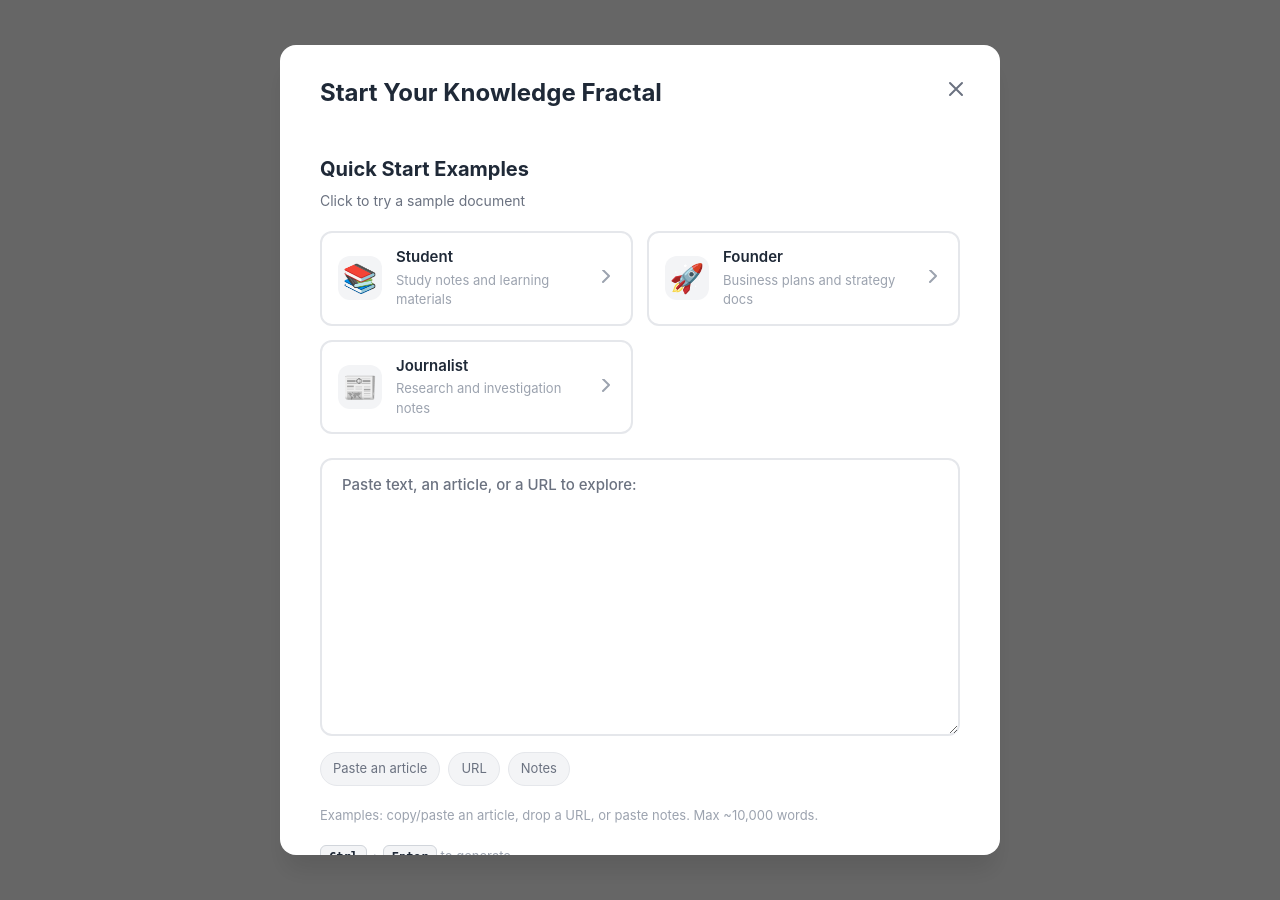
it: OnboardPopover AI Fallback › AI Timeout Handling › should show error state when AI times out
Type "Test document" into the text box at (640, 597), box left=320, top=458, right=960, bottom=736
(page scrolled)
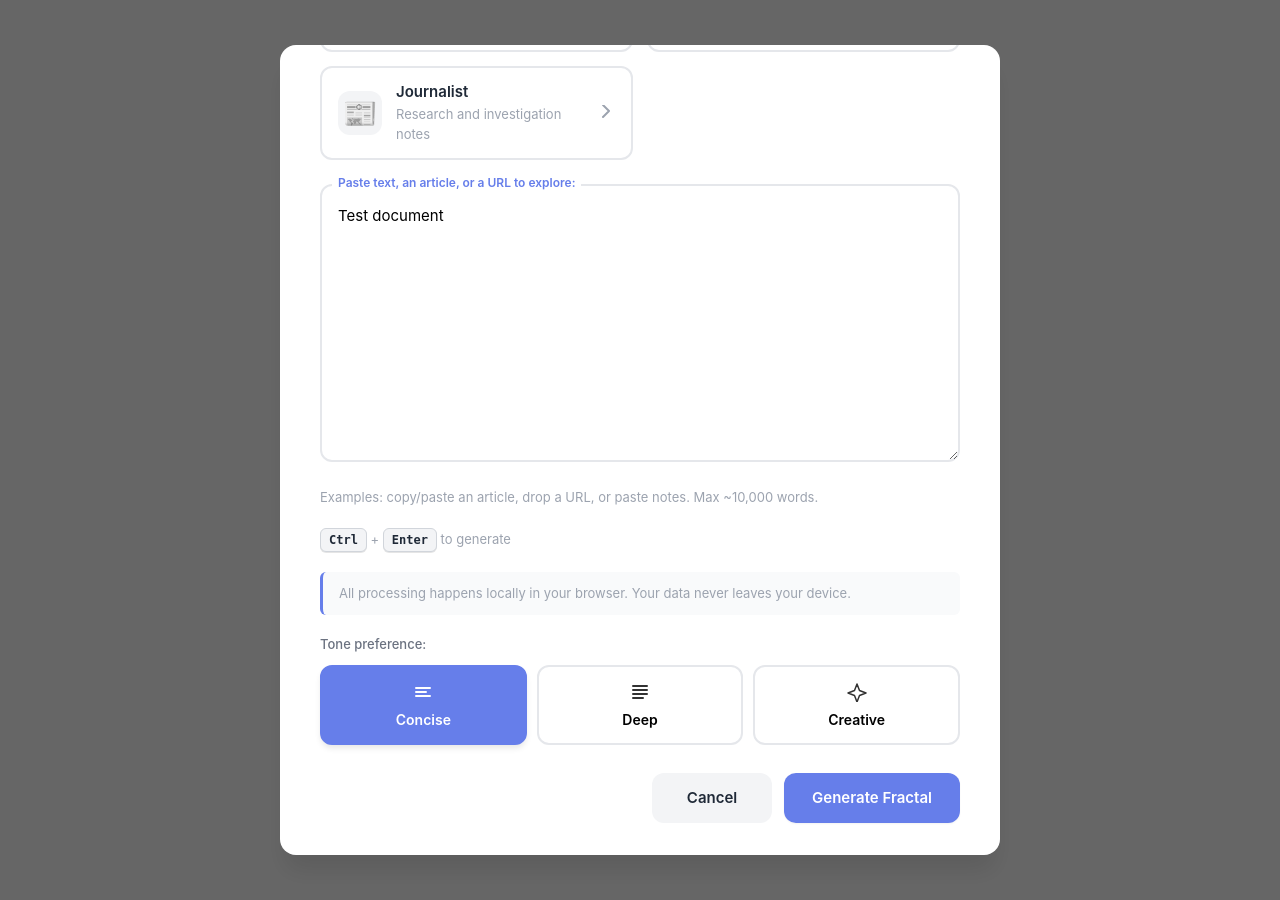
Click the button "Generate Fractal" at (872, 798), box left=784, top=773, right=960, bottom=823
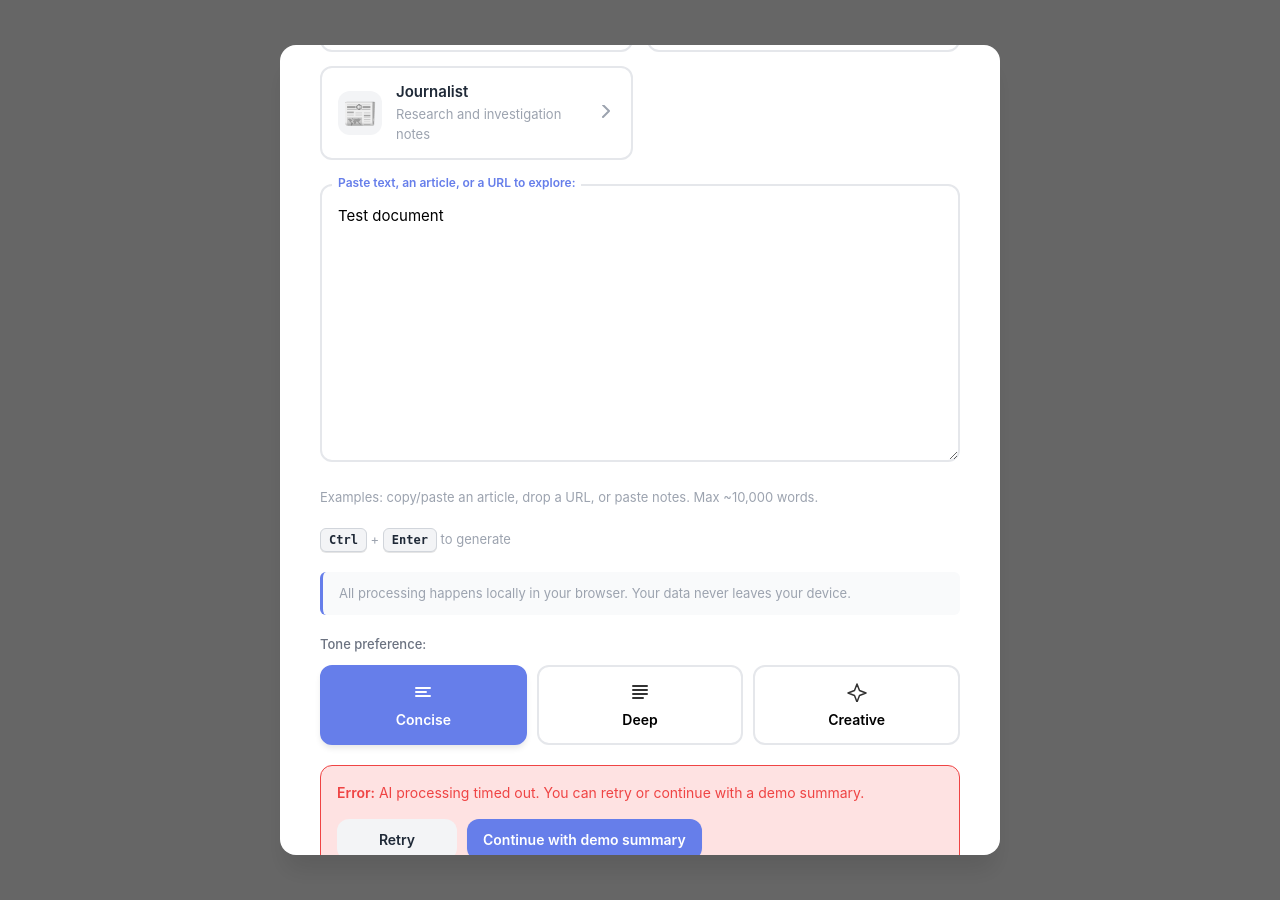
Check: the message shows "timed out", box left=379, top=784, right=864, bottom=801
Check: the button "Retry" is shown, box left=337, top=819, right=457, bottom=855
Check: the button "Continue with demo summary" is shown, box left=467, top=819, right=702, bottom=855
